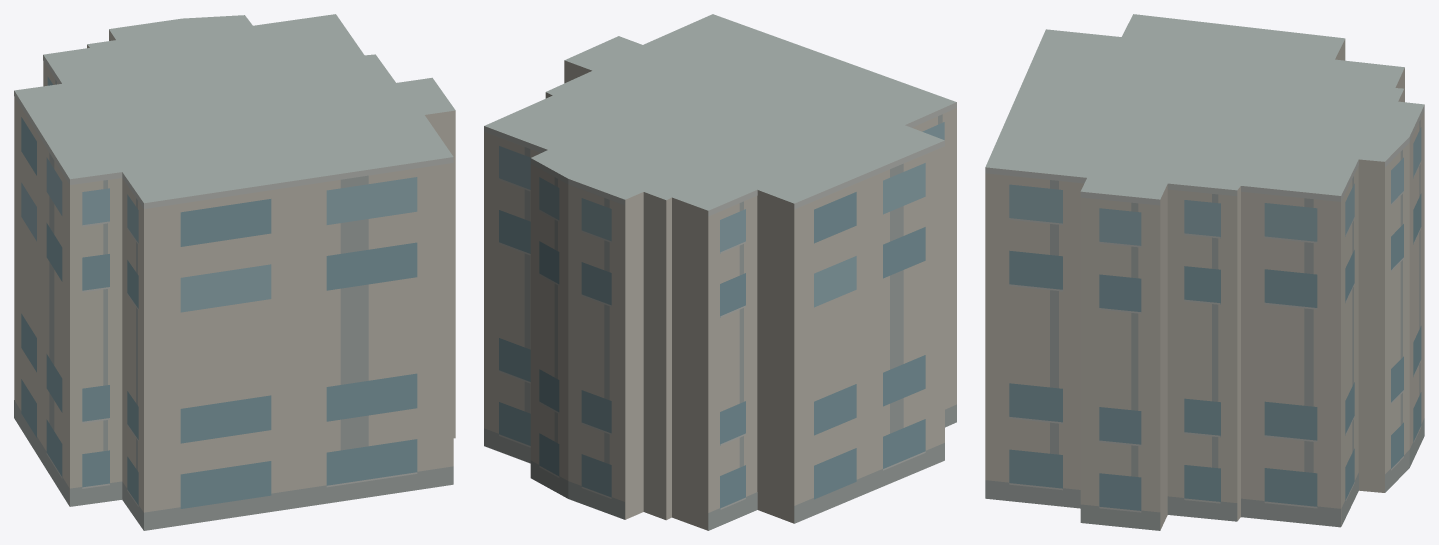
Rendered from survey-upis-32529709.glb.
3 renders of one model, left to right at view 1: azimuth 30°, elevation 25°; view 2: azimuth 150°, elevation 25°; view 3: azimuth 270°, elevation 25°, orthographic. The views are drawn at different scales.
Visible parts, largest first — view 1: survey-upis-32529709.tmp; view 2: survey-upis-32529709.tmp; view 3: survey-upis-32529709.tmp.
Part boxes in pixels (x1,y1,x2,y2): survey-upis-32529709.tmp: (14,14,455,530); survey-upis-32529709.tmp: (484,14,956,530); survey-upis-32529709.tmp: (985,14,1424,530).
Size of the model in its own units: 16.29 by 13.55 by 16.3.
